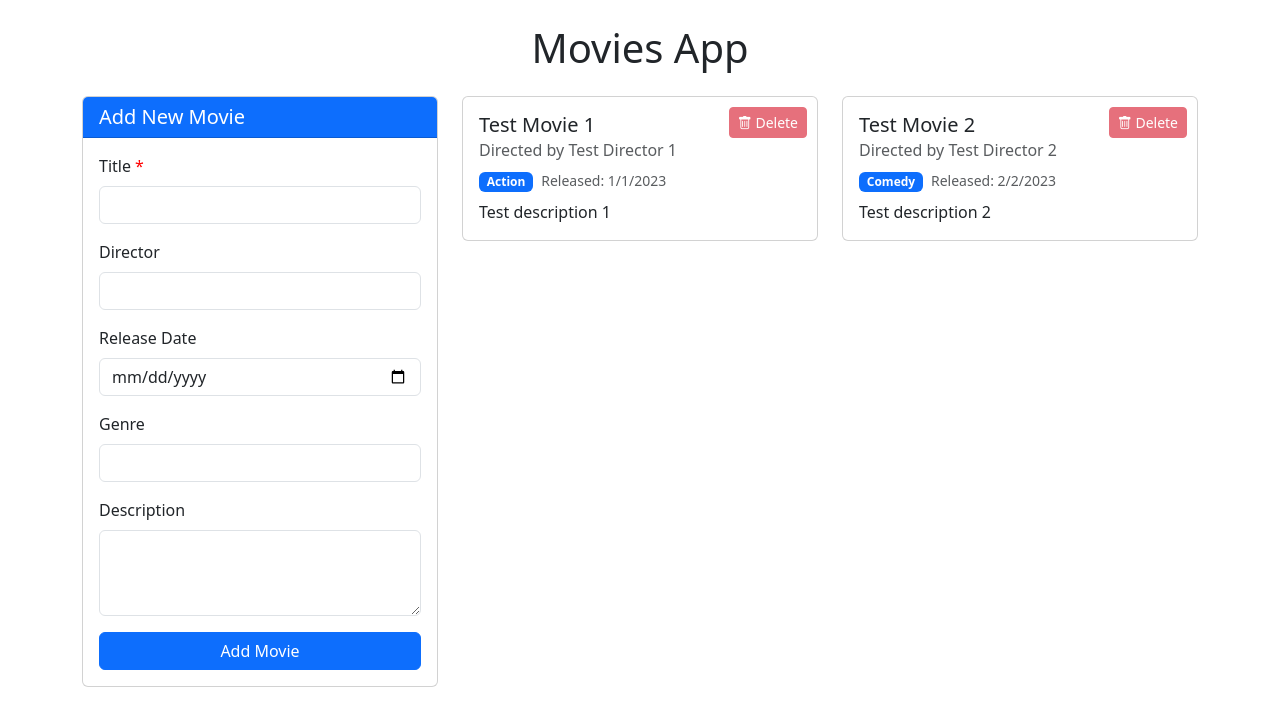
Test: App Component › handles error when deleting a movie
This screenshot has width=1280, height=707.
// Click delete button for the first movie
Click the button with test id "delete-button-1" at (768, 122), box left=729, top=107, right=807, bottom=138
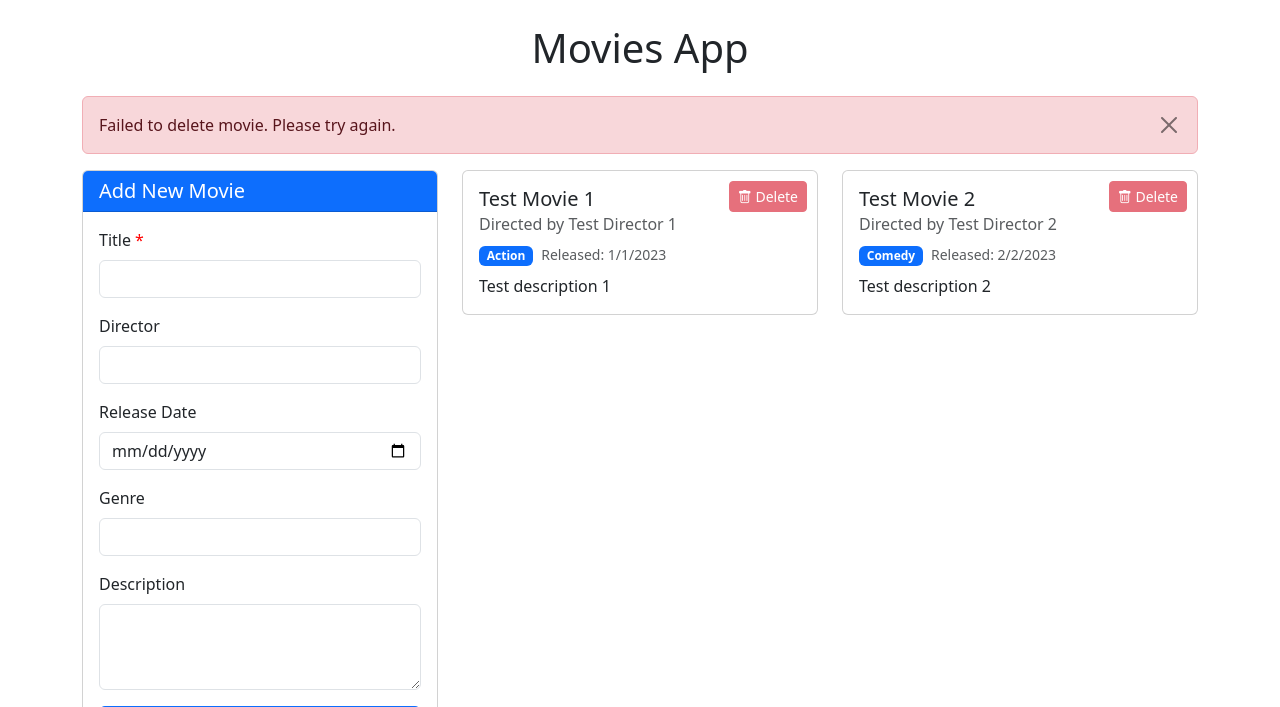
Expected: the text "Failed to delete movie. Please try again." is shown, left=82, top=96, right=1198, bottom=154
